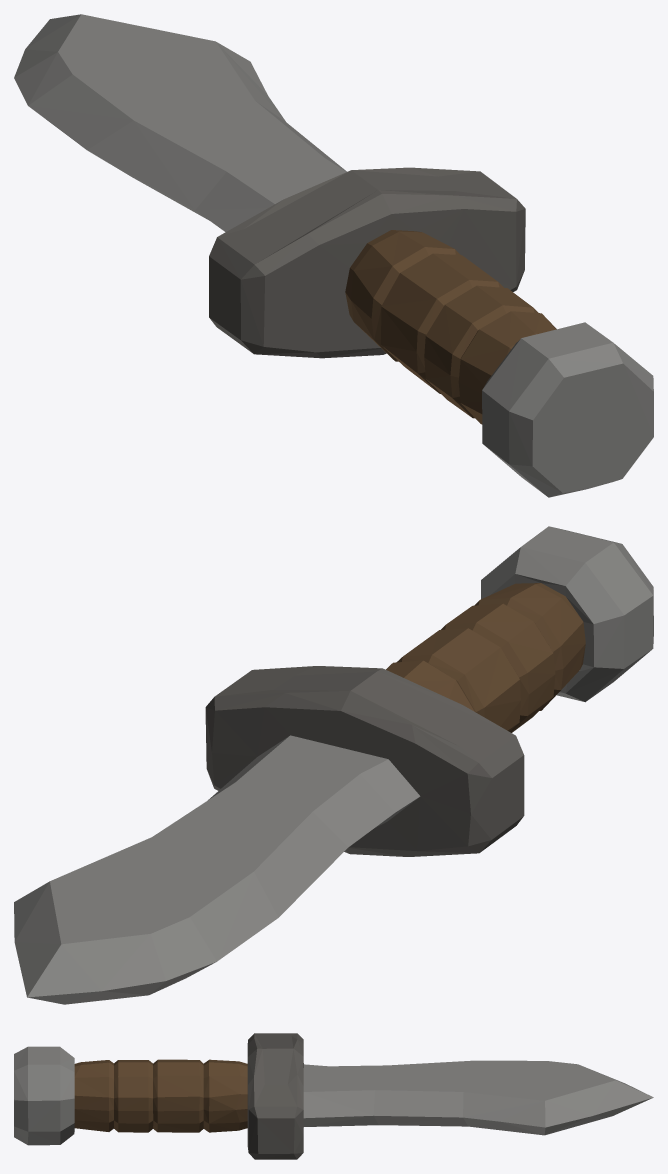
File: FalchionSword.fbx
The picture shows the model from 3 angles, top to bottom: view 1: azimuth 30°, elevation 25°; view 2: azimuth 150°, elevation 25°; view 3: azimuth 270°, elevation 25°; orthographic projection. The views are drawn at different scales.
Parts seen in each view (by area): view 1: FalchionSword; view 2: FalchionSword; view 3: FalchionSword.
Boxes of the visible parts, x1,y1,x2,y2 form: FalchionSword: (14,14,653,497); FalchionSword: (14,526,653,1004); FalchionSword: (14,1033,653,1159).
Size of the model in its own units: 0.1745 by 0.5867 by 0.0953.
